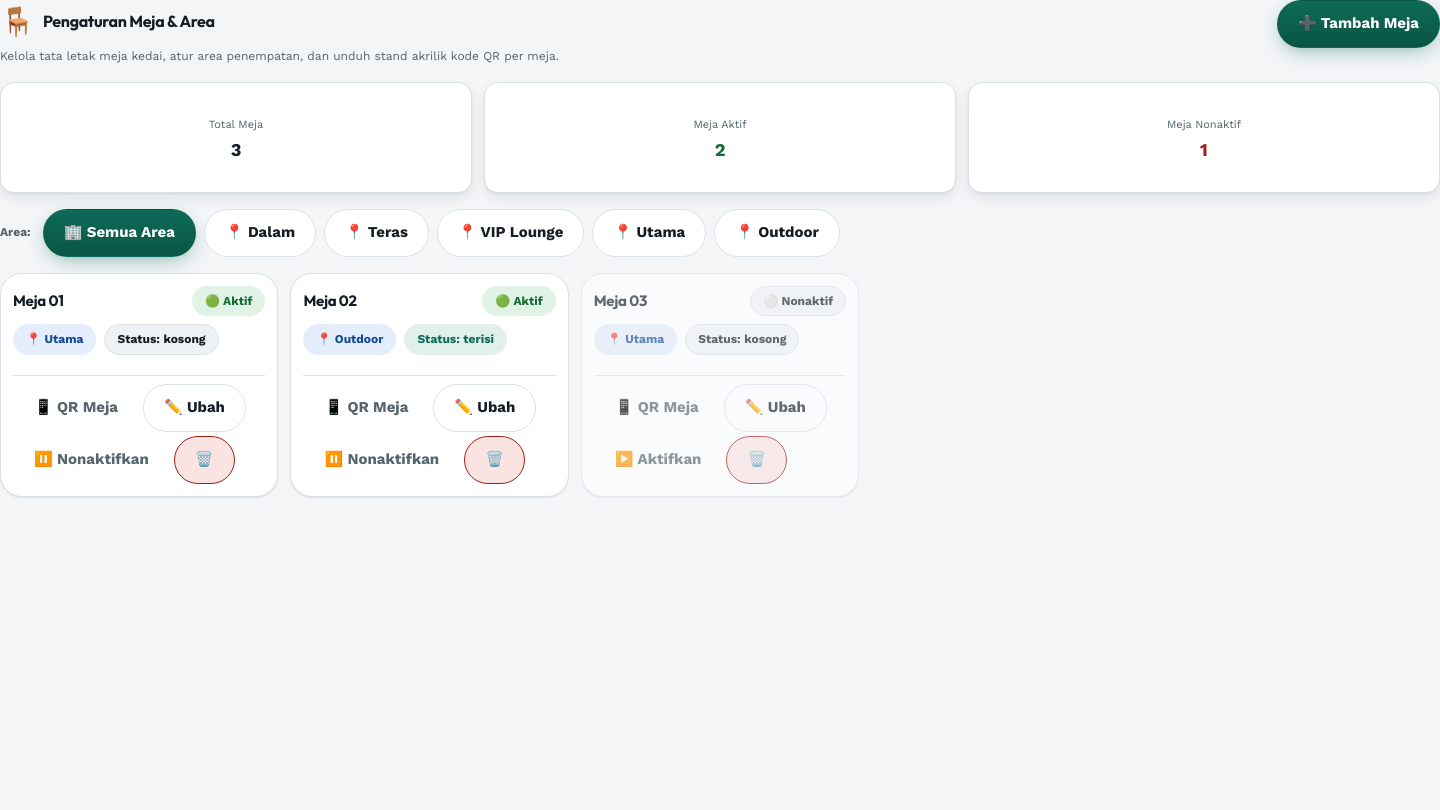
Test case: Layar Pengaturan Meja & Area (T9-04) › 3. Menolak tambah meja baru bila nama meja kosong
Click the button with aria-label "Tambah Meja Baru".
click(1359, 24)  # box top-left (1277, 0), bottom-right (1439, 48)
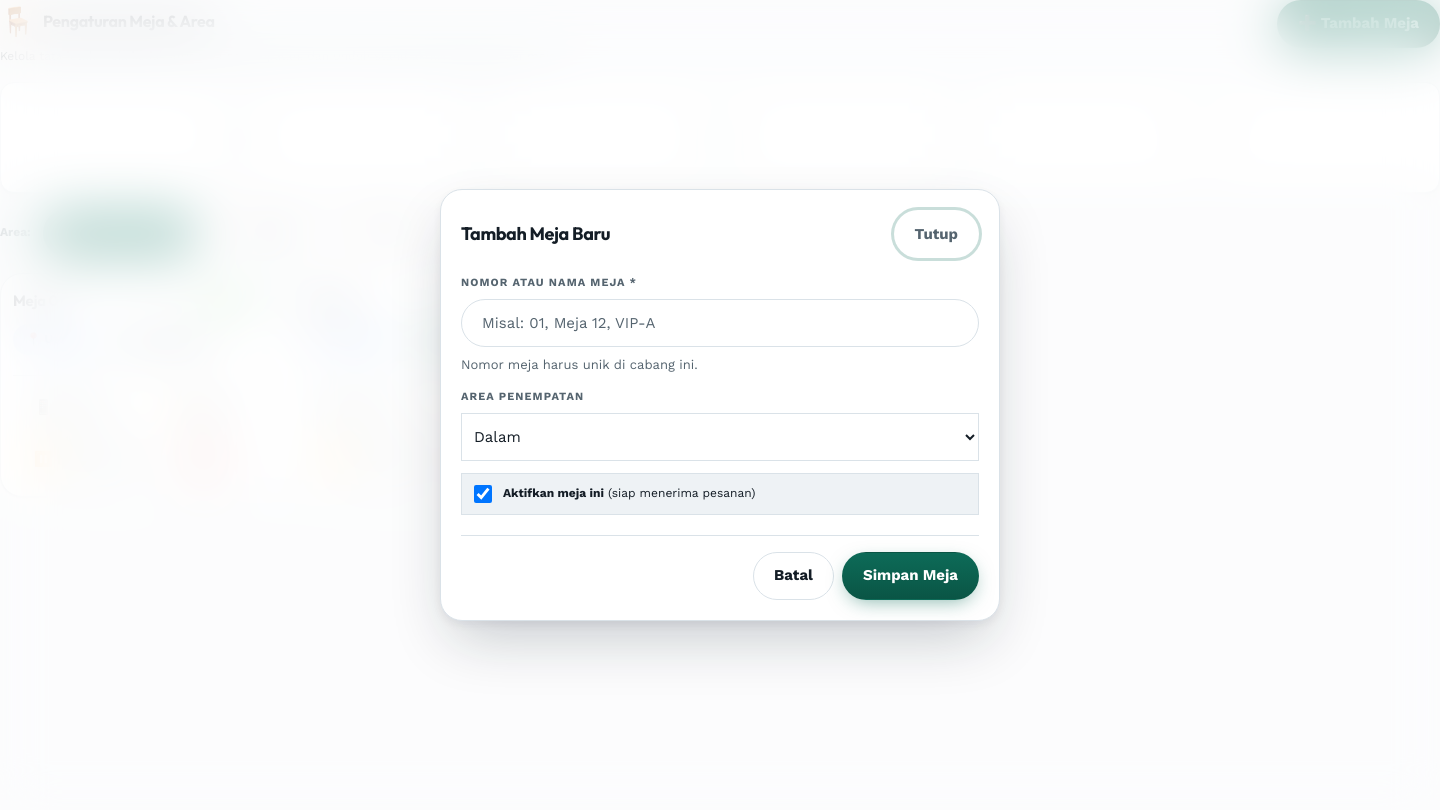
Check: the heading "Tambah Meja Baru" is shown, box top-left (461, 224), bottom-right (610, 245)
// Langsung klik simpan tanpa isi nama
Click the button with aria-label "Simpan data meja".
click(910, 576)  # box top-left (842, 552), bottom-right (979, 600)
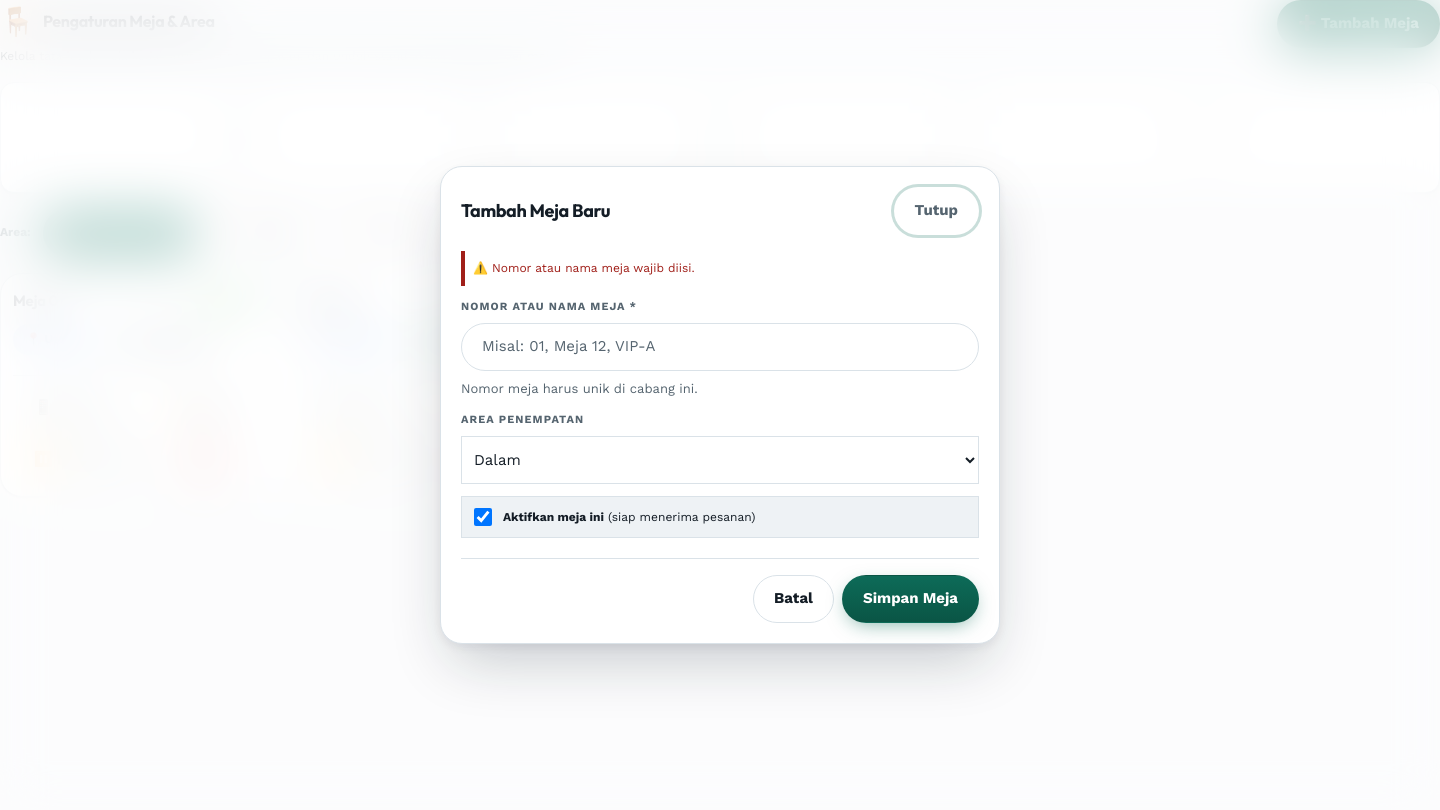
Check: the text "⚠️ Nomor atau nama meja wajib diisi." is shown, box top-left (461, 251), bottom-right (979, 286)
